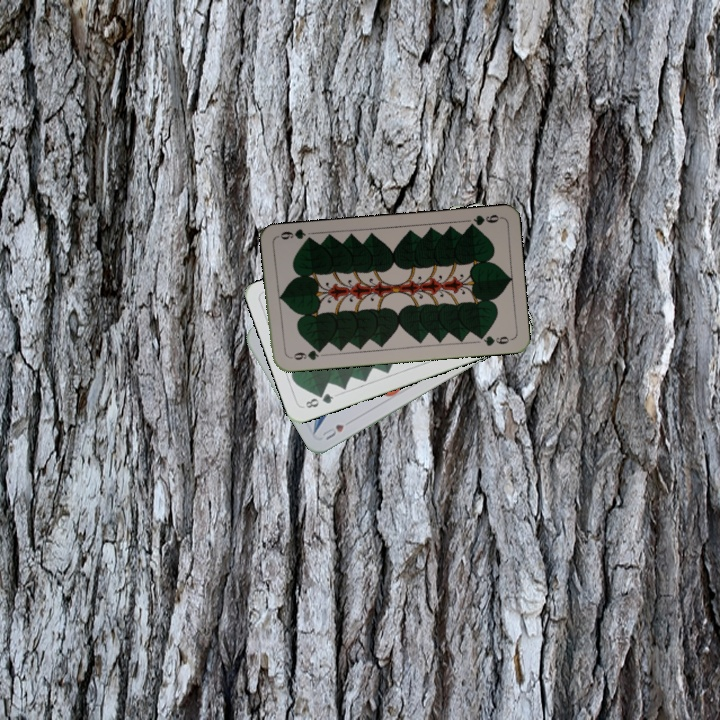G8: (301, 389, 336, 411)
G9: (463, 210, 503, 231), (285, 345, 325, 363)
HU: (317, 420, 346, 442)
